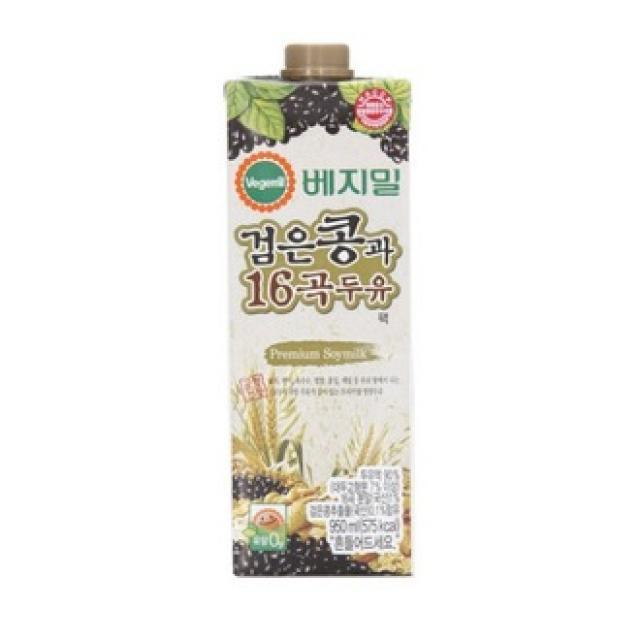Tetra: (218, 75, 416, 584)
